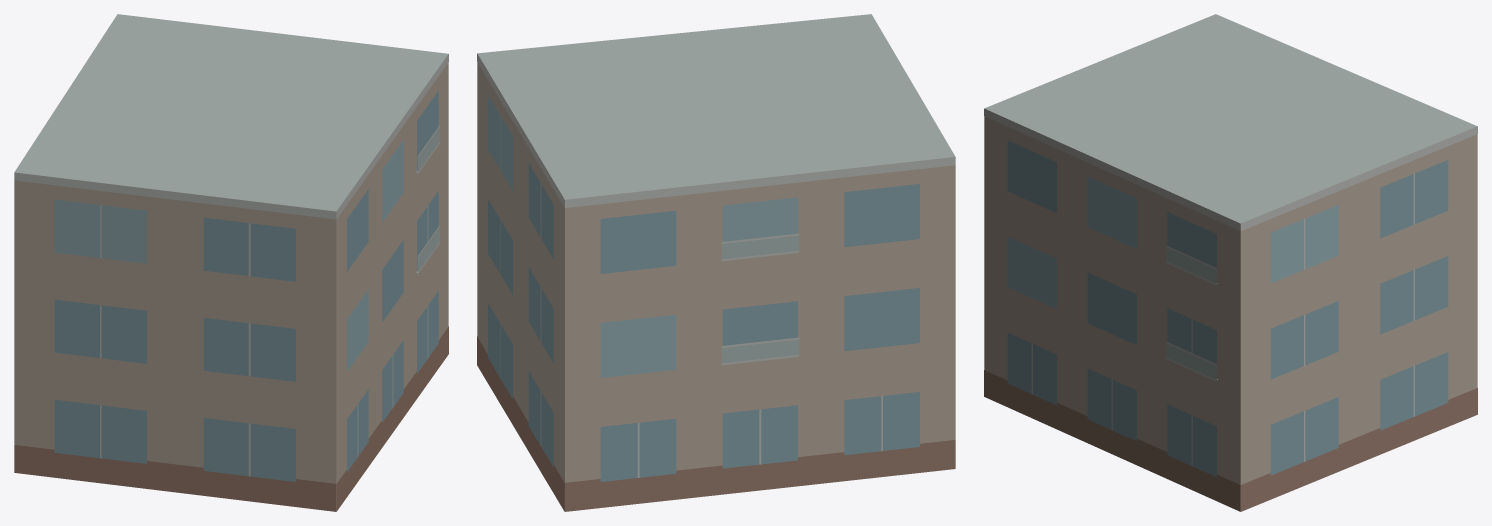
The model's file is survey-upis-32776764.glb.
3 views of the same model, side by side, from view 1: azimuth 30°, elevation 25°; view 2: azimuth 150°, elevation 25°; view 3: azimuth 270°, elevation 25° (orthographic). The views are drawn at different scales.
Parts seen in each view (by area): view 1: survey-upis-32776764.tmp; view 2: survey-upis-32776764.tmp; view 3: survey-upis-32776764.tmp.
Part boxes in pixels (<box>): survey-upis-32776764.tmp: <box>14,14,448,511</box>; survey-upis-32776764.tmp: <box>477,14,955,511</box>; survey-upis-32776764.tmp: <box>984,14,1477,511</box>.
Size of the model in its own units: 14.28 by 9.15 by 14.21.
